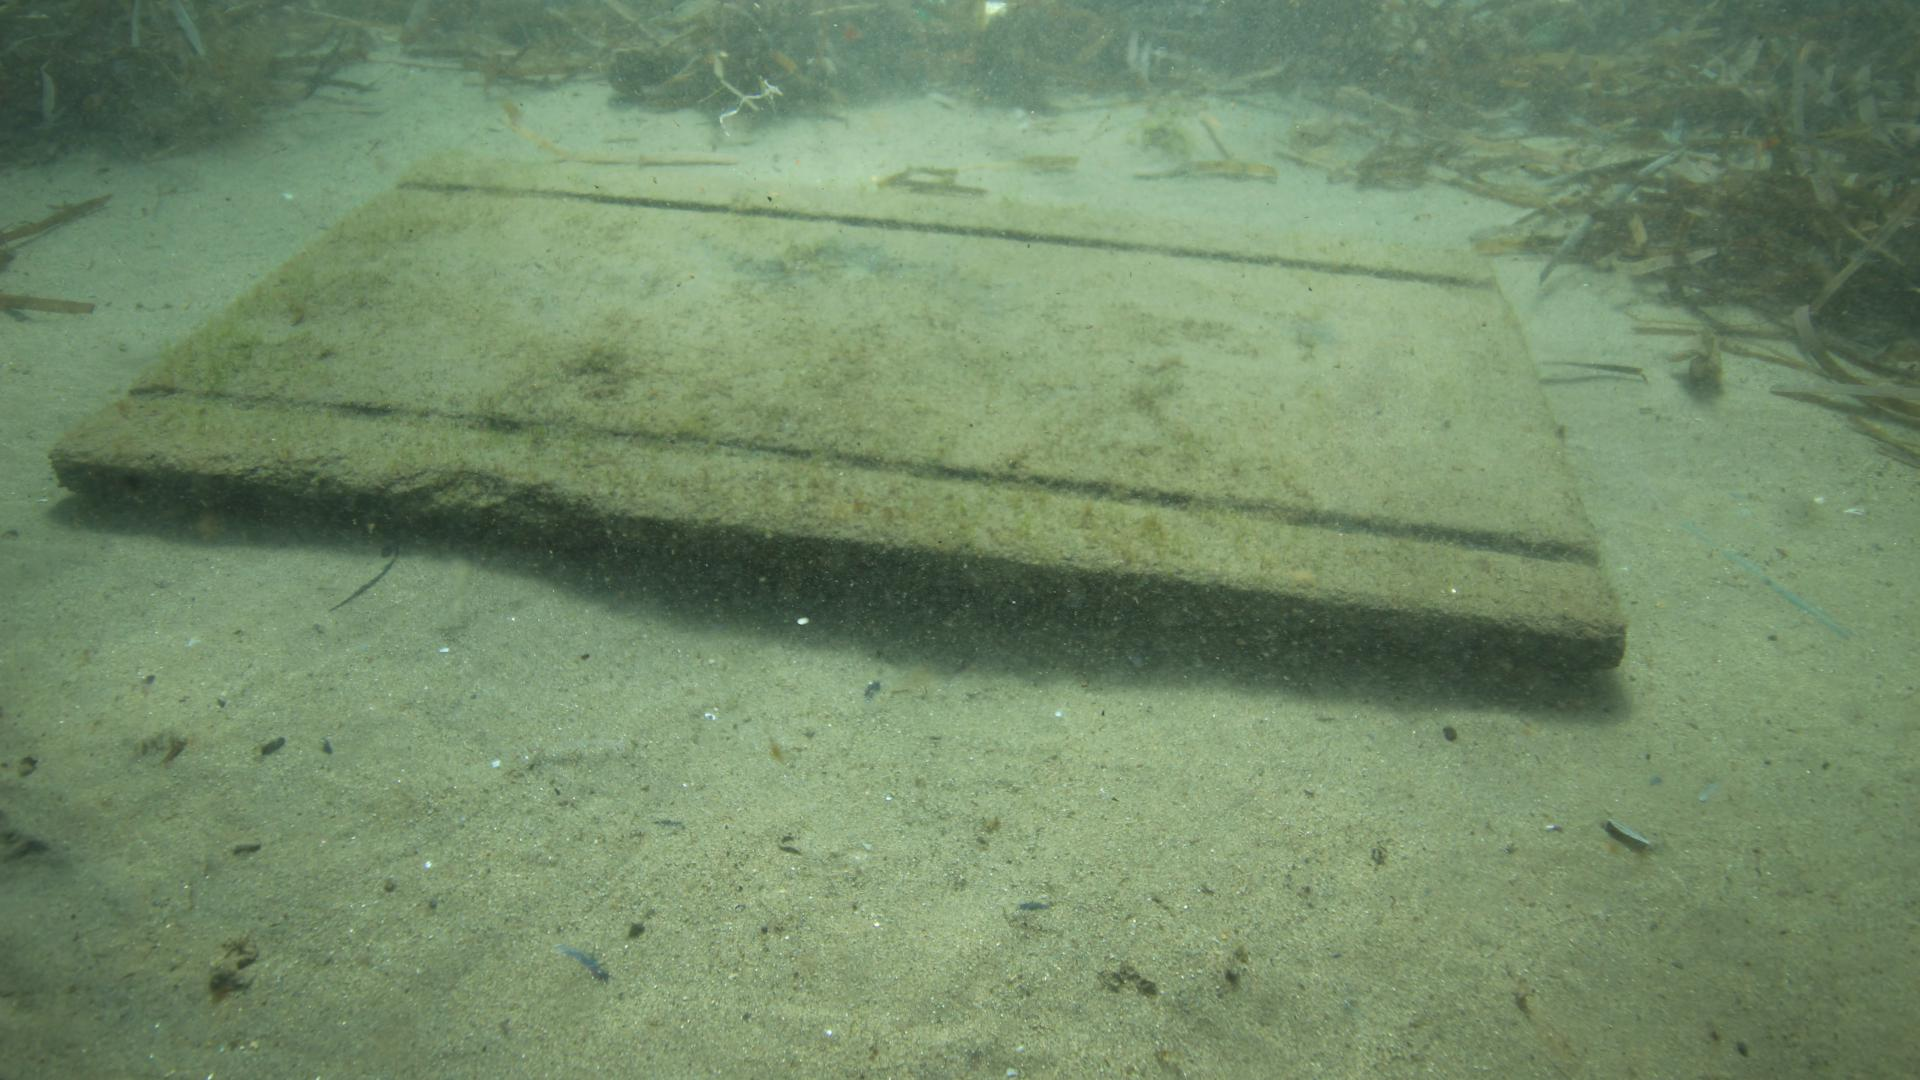wood: (49, 146, 1630, 676)
